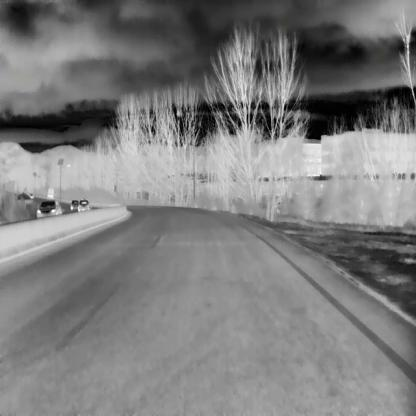car: (36, 200, 61, 217), (77, 199, 89, 211), (70, 198, 79, 209)
